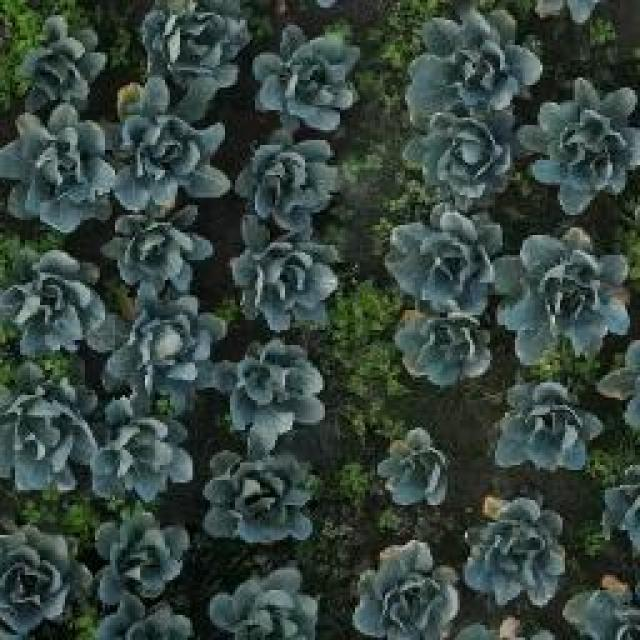cabbage: (95, 80, 229, 212), (493, 229, 626, 357), (108, 292, 230, 410), (0, 106, 116, 229), (415, 7, 527, 125), (531, 84, 640, 204), (0, 247, 120, 355), (0, 375, 99, 498), (138, 0, 255, 103), (253, 19, 363, 127), (229, 230, 338, 334), (86, 409, 206, 503), (88, 499, 195, 602), (106, 210, 219, 306), (216, 344, 328, 439), (233, 130, 341, 227), (466, 494, 562, 603), (0, 520, 87, 639), (212, 451, 319, 545), (352, 547, 459, 640), (395, 213, 493, 314), (406, 110, 509, 198), (505, 374, 601, 467), (388, 299, 489, 381), (12, 13, 106, 100), (211, 573, 327, 637), (377, 431, 465, 507)
